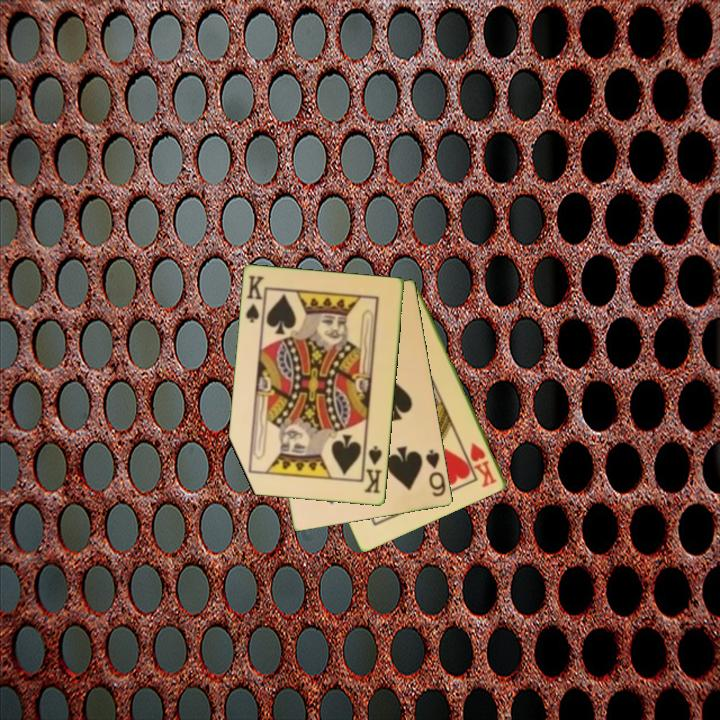6s: (423, 446, 449, 500)
Kh: (467, 439, 500, 491)
Ks: (242, 272, 268, 328), (360, 442, 385, 496)
